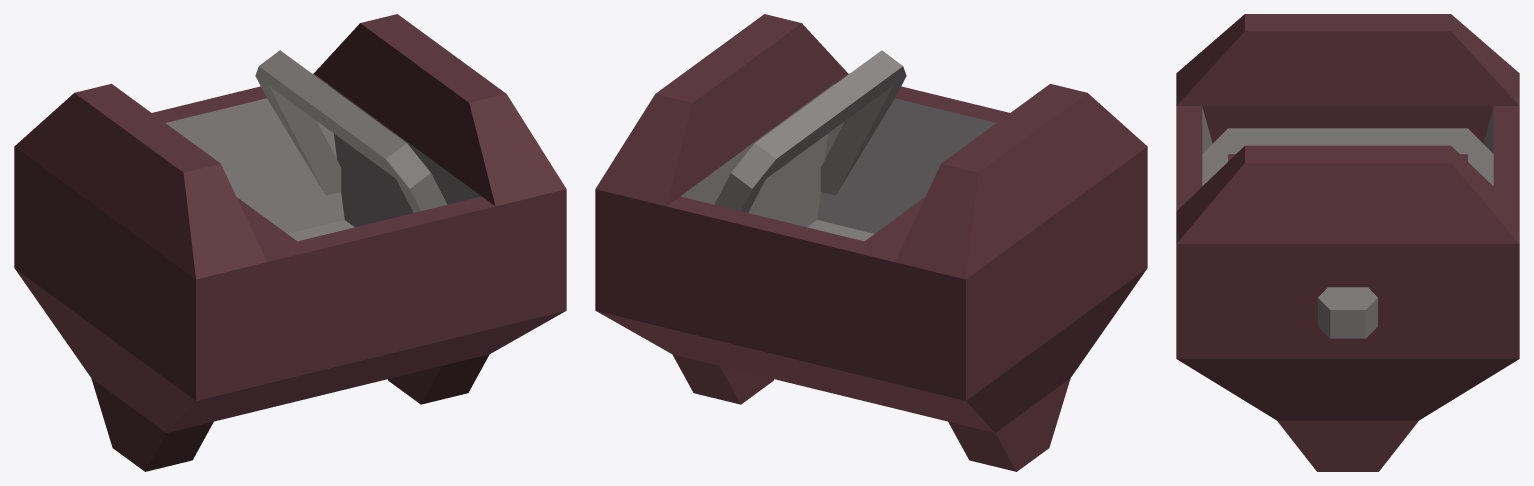
The model's file is roller-coaster-cart-back.fbx.
The picture shows the model from 3 angles, left to right: view 1: azimuth 30°, elevation 25°; view 2: azimuth 150°, elevation 25°; view 3: azimuth 270°, elevation 25°; orthographic projection. The views are drawn at different scales.
Parts seen in each view (by area): view 1: roller-coaster-cart-back; view 2: roller-coaster-cart-back; view 3: roller-coaster-cart-back.
Boxes of the visible parts, <box> form: roller-coaster-cart-back: <box>14,14,566,471</box>; roller-coaster-cart-back: <box>595,14,1147,471</box>; roller-coaster-cart-back: <box>1176,14,1519,471</box>.
Bounding box in the file's own units: 1.77 × 1.32 × 1.33.
